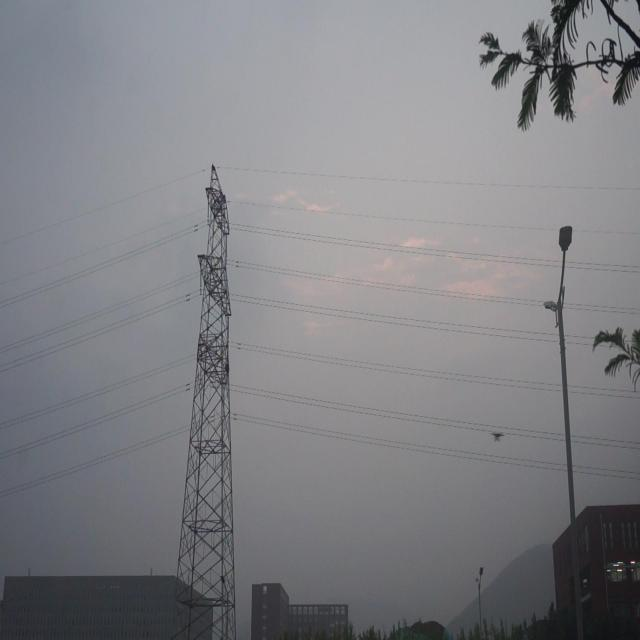UAV: (489, 430, 504, 441)
